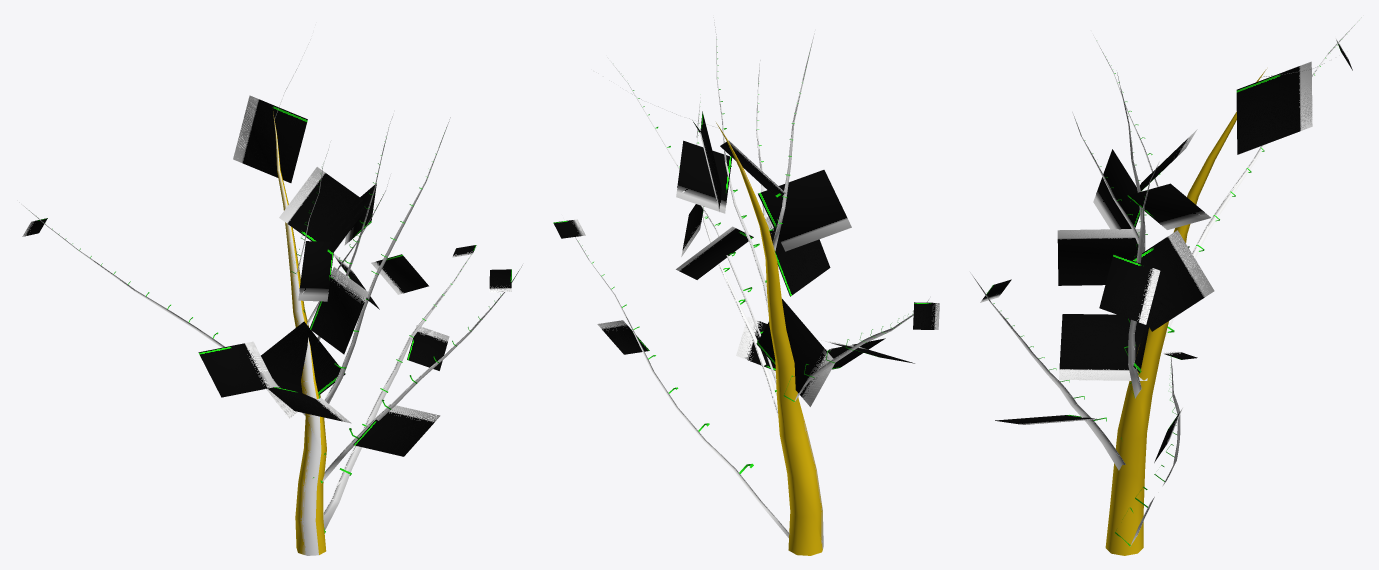
Rendered from Tree.fbx.
3 views of the same model, side by side, from view 1: azimuth 30°, elevation 25°; view 2: azimuth 150°, elevation 25°; view 3: azimuth 270°, elevation 25° (orthographic). The views are drawn at different scales.
Visible parts, largest first — view 1: Tree; view 2: Tree; view 3: Tree.
Boxes of the visible parts, x1=… form: Tree: x1=17, y1=39, x2=522, y2=555; Tree: x1=553, y1=17, x2=939, y2=555; Tree: x1=970, y1=15, x2=1363, y2=555.
Bounding box in the file's own units: 1248 × 1369 × 884.
2 materials, 2 textured.
